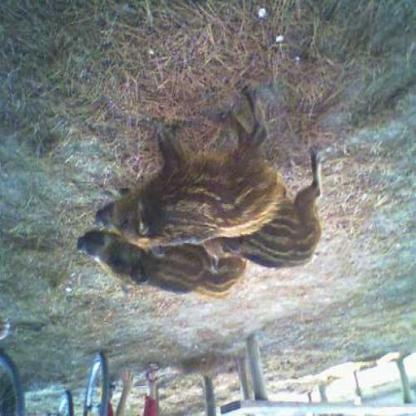boar: (80, 103, 279, 250), (186, 167, 361, 268), (76, 228, 248, 321)
